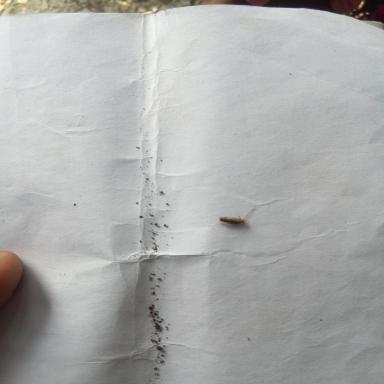pbw: (218, 213, 246, 226)
